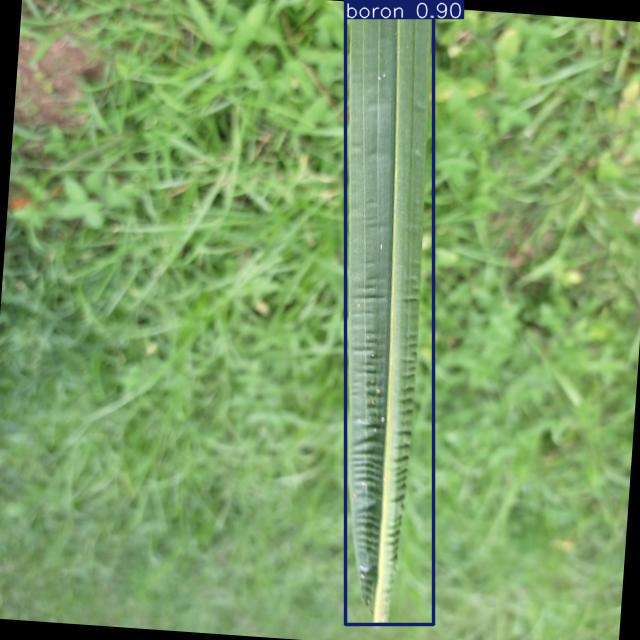nitrogen: (346, 0, 434, 624)
